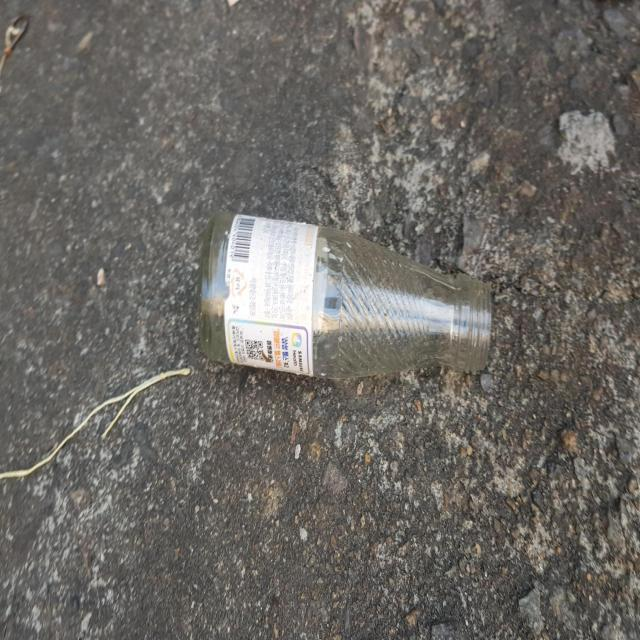glass: (198, 212, 492, 378)
